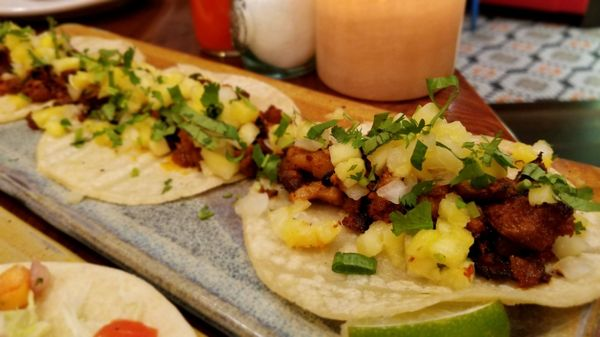pizza: (314, 2, 467, 104)
